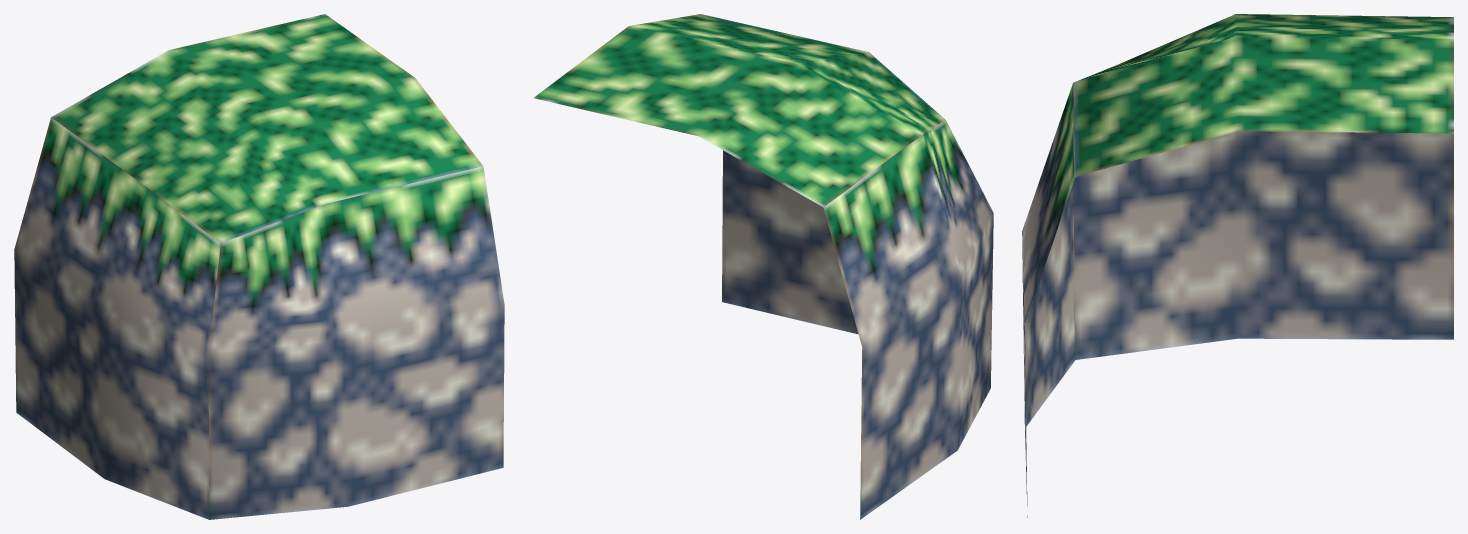
Rendered from grassCTile_groundCorner_lowerLeft.fbx.
3 renders of one model, left to right at view 1: azimuth 30°, elevation 25°; view 2: azimuth 150°, elevation 25°; view 3: azimuth 270°, elevation 25°, orthographic. The views are drawn at different scales.
Visible parts, largest first — view 1: grassCTile_groundCorner_lowerLeft; view 2: grassCTile_groundCorner_lowerLeft; view 3: grassCTile_groundCorner_lowerLeft.
Boxes of the visible parts, left/top/right/bottom form: grassCTile_groundCorner_lowerLeft: left=14, top=14, right=504, bottom=519; grassCTile_groundCorner_lowerLeft: left=533, top=14, right=993, bottom=519; grassCTile_groundCorner_lowerLeft: left=1022, top=14, right=1453, bottom=517.
Size of the model in its own units: 1.01 by 1.01 by 1.01.
